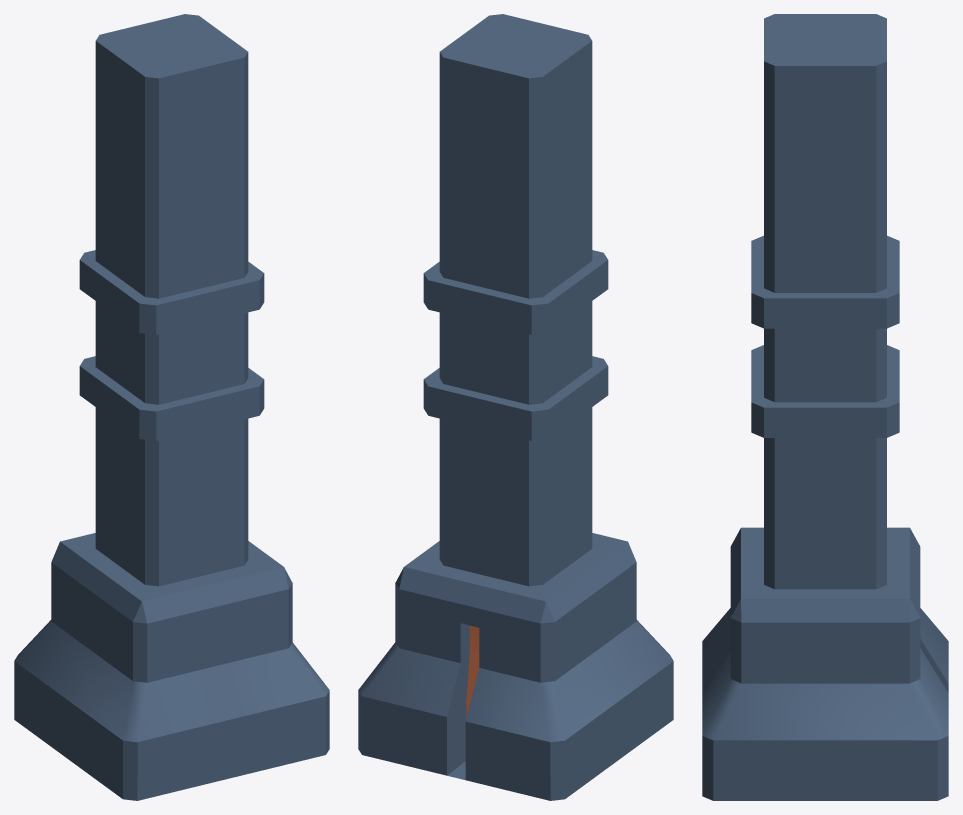
File: mdl_pillar.fbx
3 views of the same model, side by side, from view 1: azimuth 30°, elevation 25°; view 2: azimuth 150°, elevation 25°; view 3: azimuth 270°, elevation 25° (orthographic). The views are drawn at different scales.
Parts seen in each view (by area): view 1: Cube; view 2: Cube; view 3: Cube.
Part boxes in pixels (x1,y1,x2,y2): Cube: [14, 14, 329, 800]; Cube: [358, 14, 673, 800]; Cube: [702, 14, 948, 800].
Bounding box in the file's own units: 1.3 × 4.12 × 1.3.
